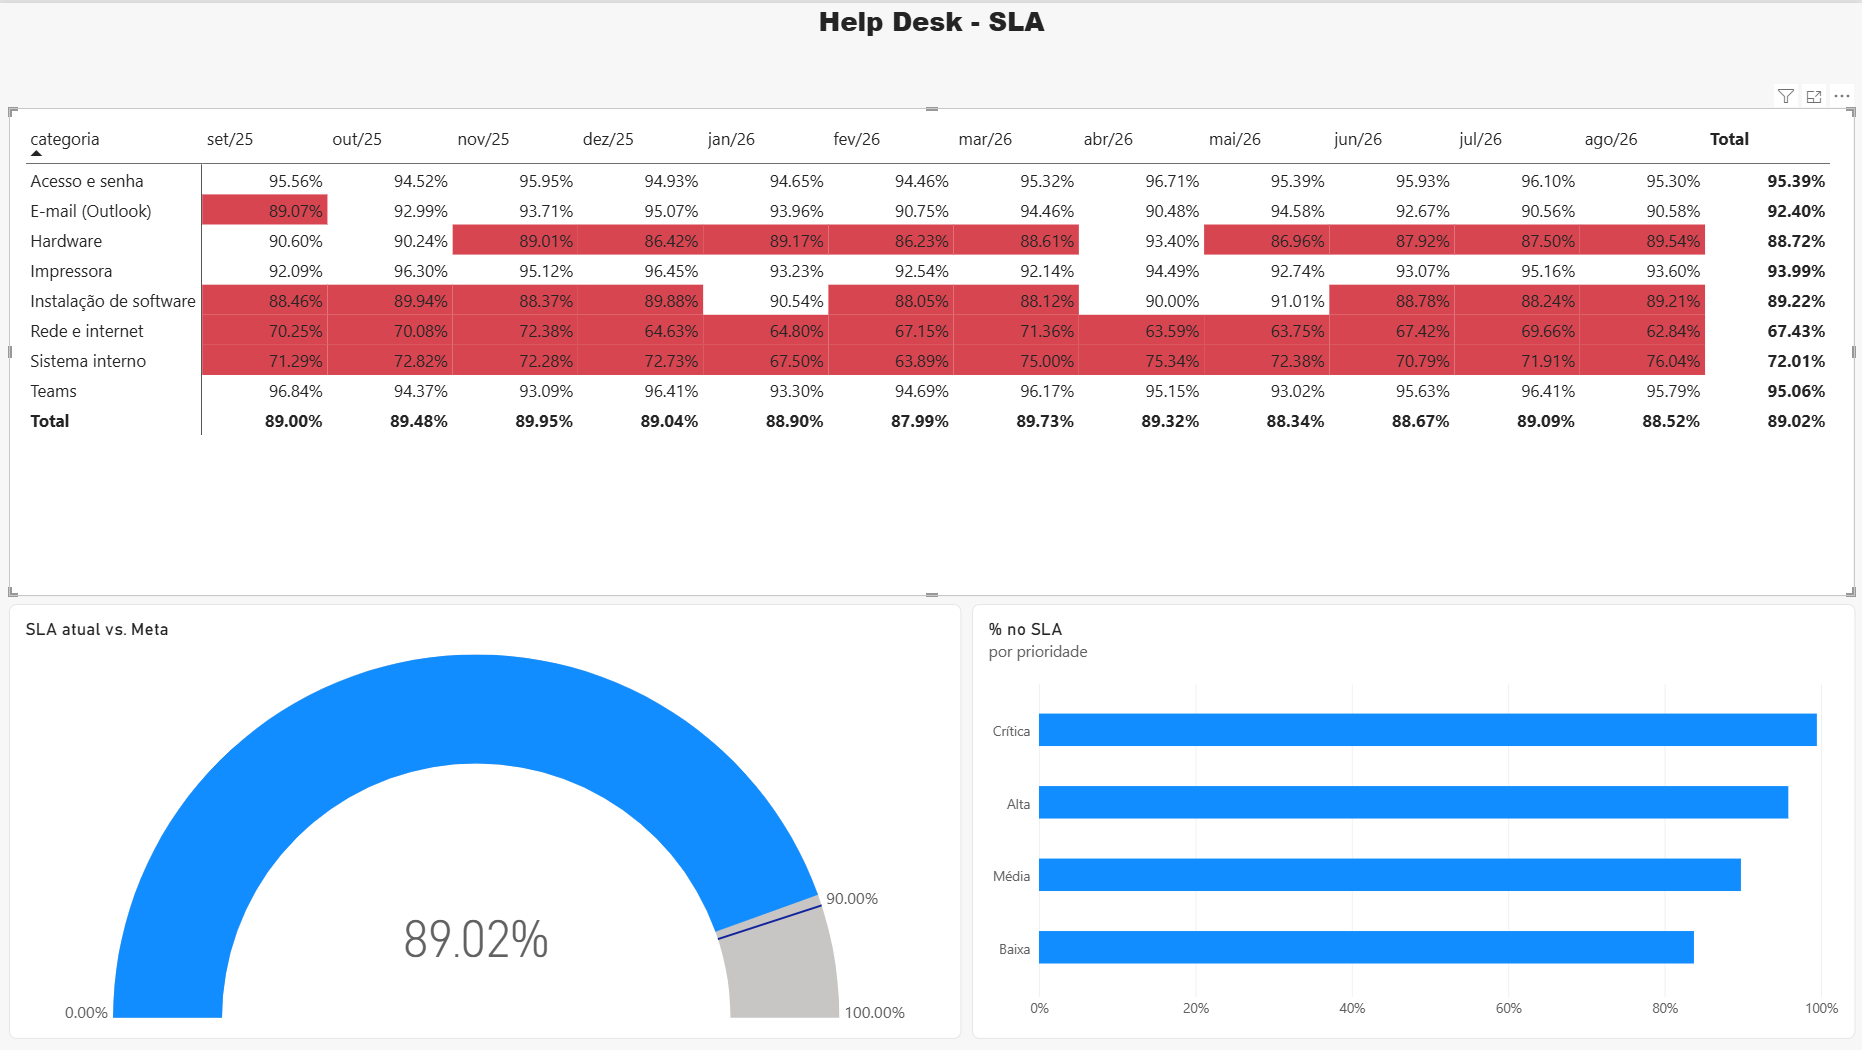

The dashboard page shown, as its layout file describes it:
{"tool":"powerbi","page":{"name":"SLA","canvas":[1920,1080],"ordinal":1},"visuals":[{"type":"textbox","box":[10,0,280,280],"z":0},{"type":"textbox","box":[587.6,0,744.7,62.8],"z":1000},{"type":"pivotTable","fields":{"Rows":["dCategorias.categoria"],"Columns":["dCalendario.Mes"],"Values":["fChamados.% no SLA"]},"box":[10.3,108.2,1901.5,502.7],"z":1001},{"type":"gauge","title":"SLA atual vs. Meta","fields":{"Y":["fChamados.% no SLA"],"TargetValue":["fChamados.Meta SLA"]},"box":[10.3,619.1,980.6,448.1],"z":1002},{"type":"clusteredBarChart","fields":{"Category":["fChamados.prioridade"],"Y":["fChamados.% no SLA"]},"box":[1002.2,619.1,909.5,448.1],"z":1003}]}

Visuals, with their boxes in screenshot pixels (x1, y1, x2, y2), scaled from the page's 1920x1080 canvas onto the 1862x1050 screenshot:
textbox: {"left": 10, "top": 0, "right": 281, "bottom": 272}
textbox: {"left": 570, "top": 0, "right": 1292, "bottom": 61}
pivotTable - dCategorias.categoria x dCalendario.Mes: {"left": 10, "top": 105, "right": 1854, "bottom": 594}
"SLA atual vs. Meta" gauge: {"left": 10, "top": 602, "right": 961, "bottom": 1038}
clusteredBarChart - fChamados.prioridade x fChamados.% no SLA: {"left": 972, "top": 602, "right": 1854, "bottom": 1038}
